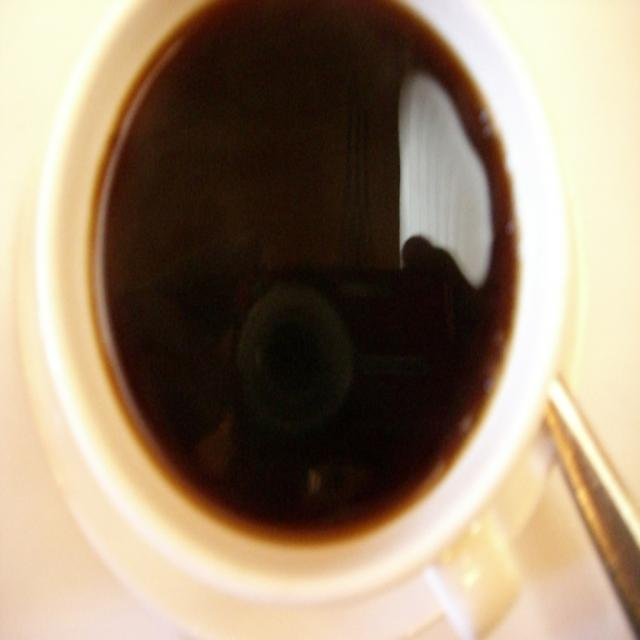Coffee: (50, 4, 587, 628)
Tea: (91, 0, 519, 548)
